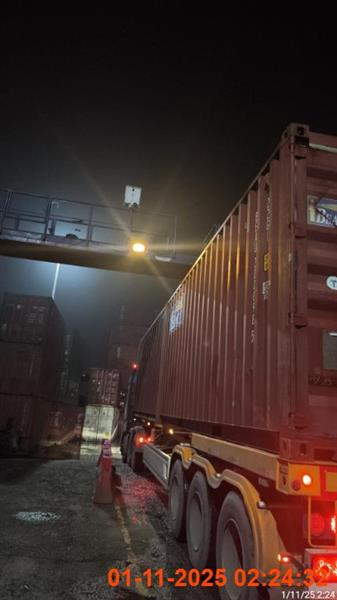broken: (119, 123, 335, 599)
